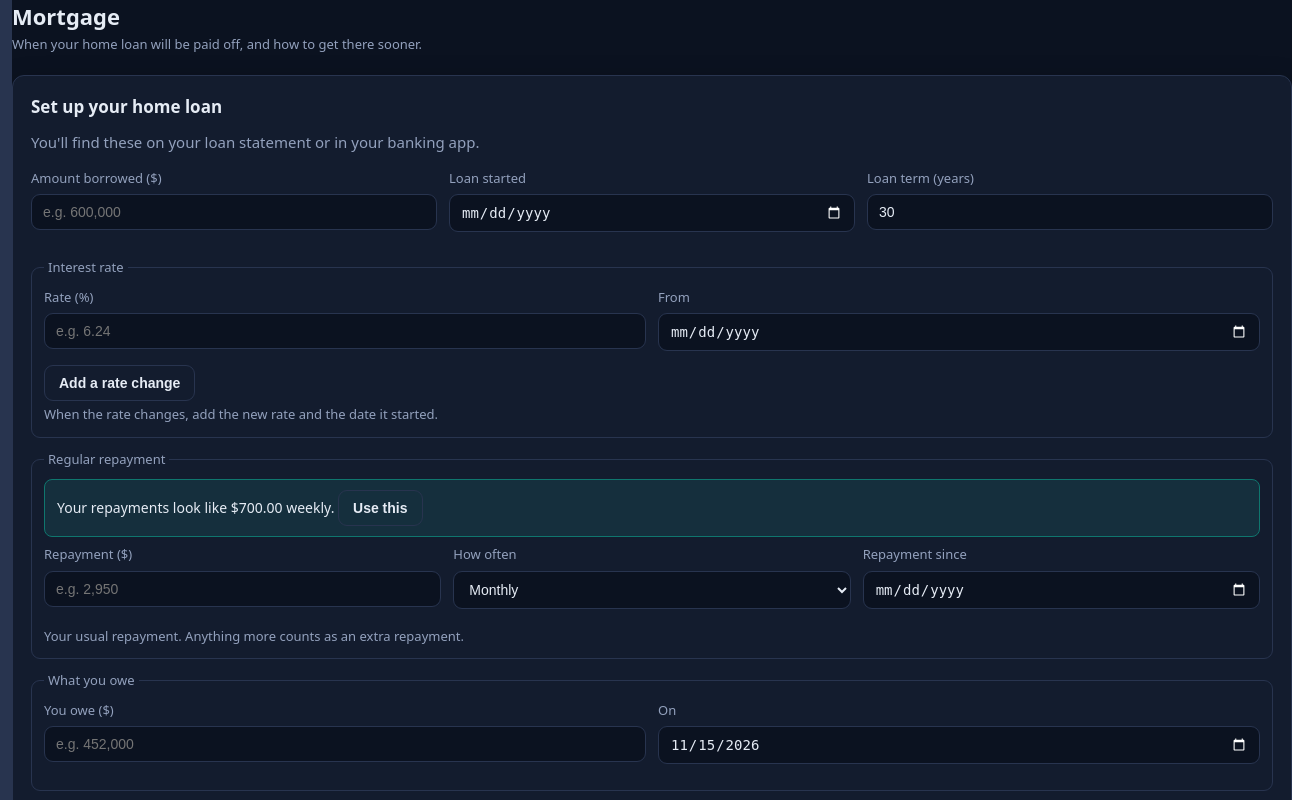
Test case: Mortgage page › asks for the date when what is owed is given without one
The image size is (1292, 800).
Expected: the heading "Set up your home loan" is shown, 31,94 -> 222,118
In the field labelled "You owe ($)": (345,744) 44,726 -> 646,762, type "452,000"
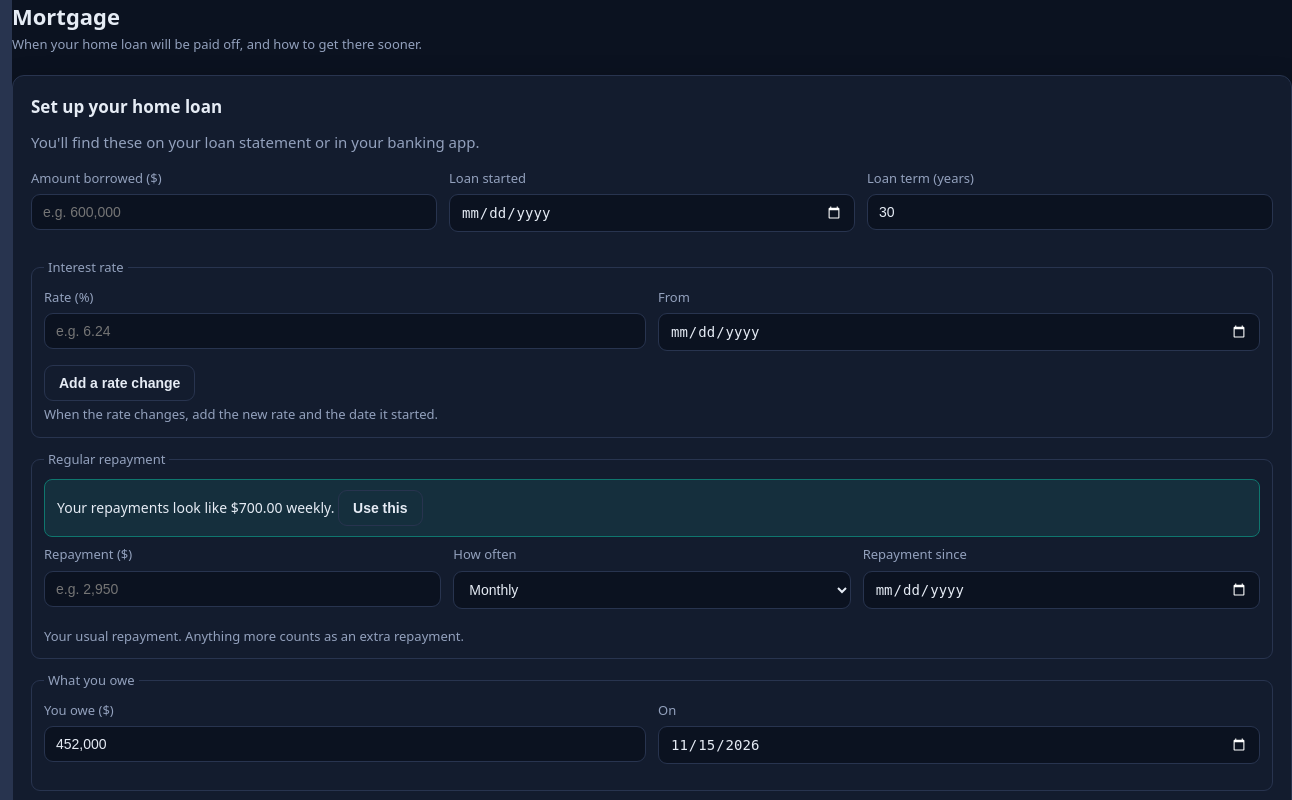
Clear the date field labelled "On": (959,745) 658,726 -> 1260,764
(page scrolled)
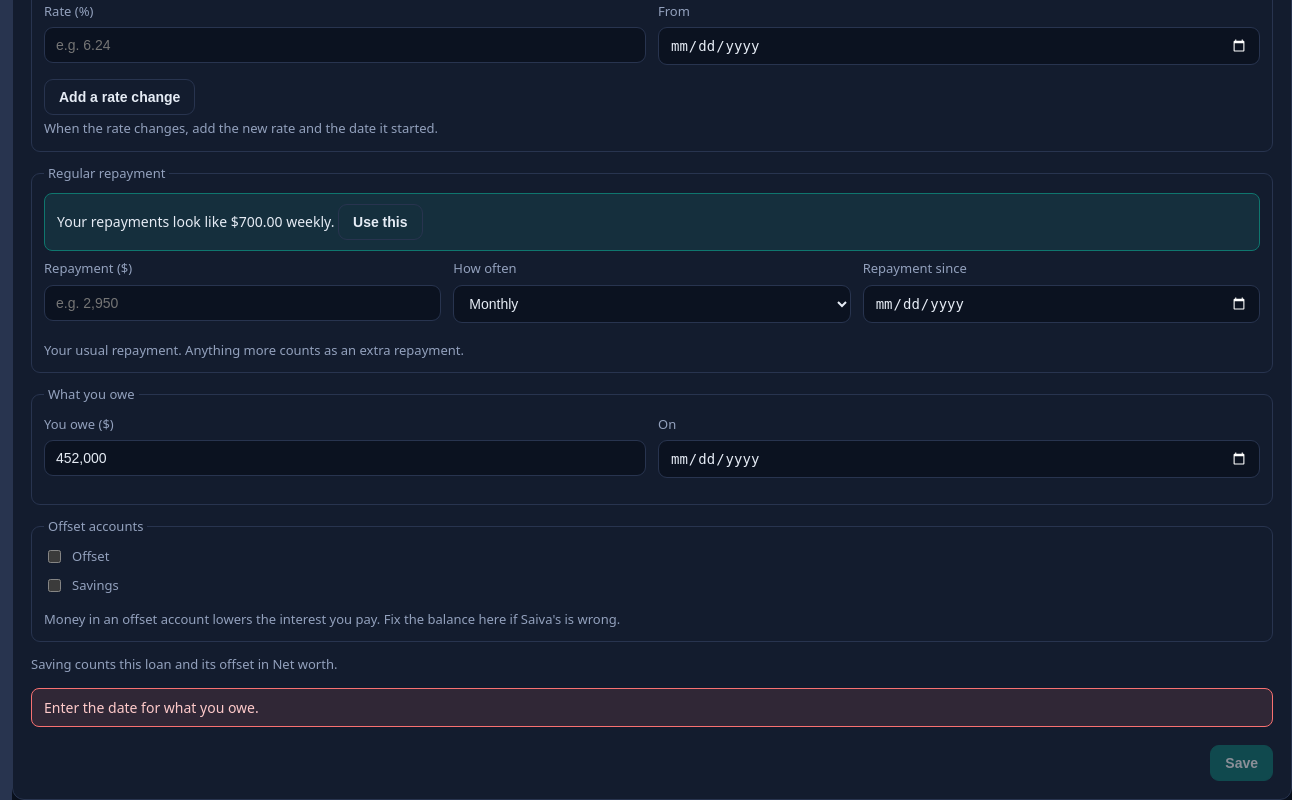
Expected: the text "Enter the date for what you owe." is shown, 31,688 -> 1273,726
Expected: the button "Save" is disabled, 1210,744 -> 1273,780
